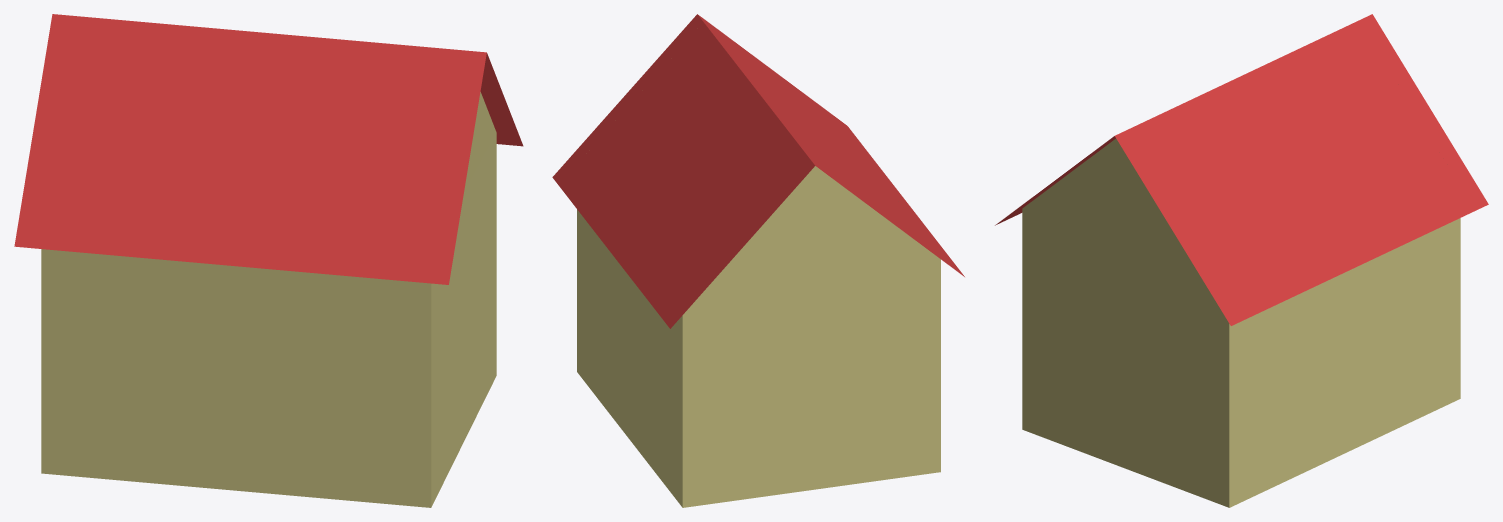
3 renders of one model, left to right at view 1: azimuth 30°, elevation 25°; view 2: azimuth 150°, elevation 25°; view 3: azimuth 270°, elevation 25°, orthographic. The views are drawn at different scales.
Size of the model in its own units: 18.83 by 18.62 by 14.12.
